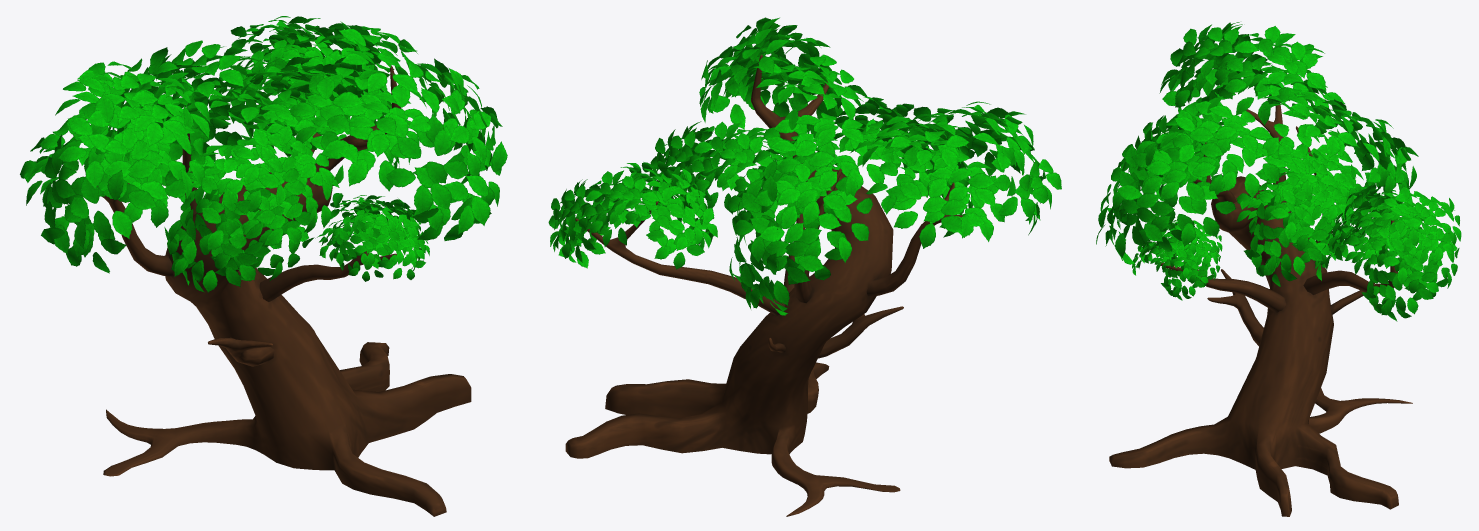
Rendered from Arbol_03.fbx.
3 renders of one model, left to right at view 1: azimuth 30°, elevation 25°; view 2: azimuth 150°, elevation 25°; view 3: azimuth 270°, elevation 25°, orthographic. The views are drawn at different scales.
Visible parts, largest first — view 1: Arbol_03; view 2: Arbol_03; view 3: Arbol_03.
Part boxes in pixels (x1,y1,x2,y2): Arbol_03: (20,16,507,516); Arbol_03: (548,17,1061,516); Arbol_03: (1096,22,1461,516).
Bounding box in the file's own units: 201 × 183 × 171.
Materials: 1 (1 with a texture image).
